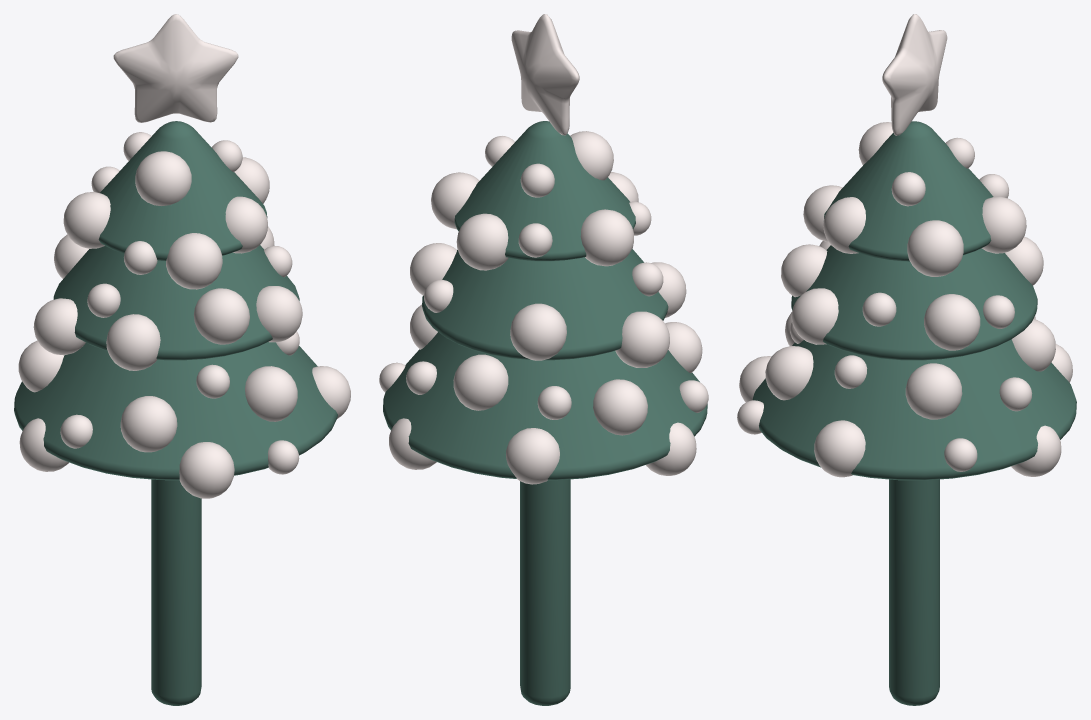
The model's file is icons8_christmas_tree_long_barrel.glb.
3 views of the same model, side by side, from view 1: azimuth 30°, elevation 25°; view 2: azimuth 150°, elevation 25°; view 3: azimuth 270°, elevation 25° (orthographic).
Visible parts, largest first — view 1: icons8_christmas_tree_long_barrel; view 2: icons8_christmas_tree_long_barrel; view 3: icons8_christmas_tree_long_barrel.
Boxes of the visible parts, box(x1,y1,x2,y2) form: icons8_christmas_tree_long_barrel: box(14, 14, 350, 705); icons8_christmas_tree_long_barrel: box(379, 14, 708, 705); icons8_christmas_tree_long_barrel: box(737, 14, 1076, 705).
Bounding box in the file's own units: 1.96 × 4.42 × 1.99.
Materials: 1 (1 with a texture image).
